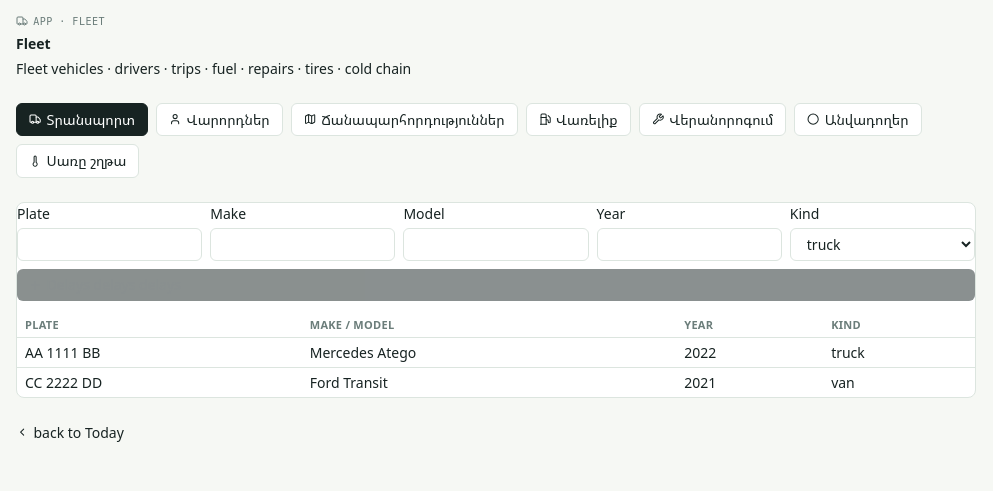
Scenario: Fleet — tab switching › clicking the trips tab reveals the fleet-trips-panel panel
Step 1. Click the tab with test id "fleet-tab-trips" → point(404, 119), box [291, 102, 518, 136]
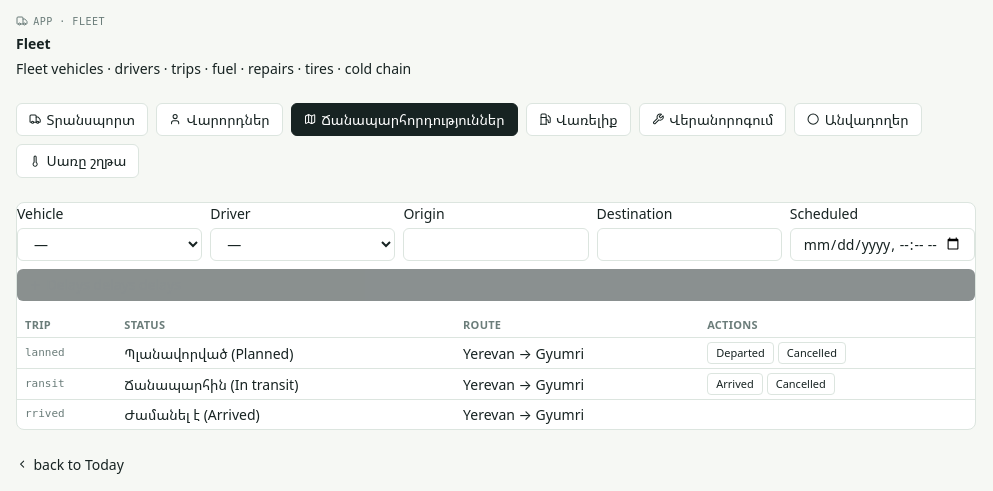
Expected: the element with test id "fleet-trips-panel" is shown, [16, 202, 976, 430]
